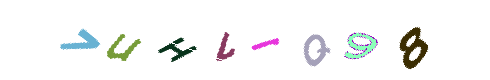7: (42, 0, 122, 80)
8: (302, 0, 382, 80)
9: (300, 0, 380, 80)
H: (203, 0, 283, 80)
I: (261, 0, 341, 80)
L: (208, 0, 288, 80)
Q: (268, 0, 348, 80)
U: (107, 0, 187, 80)
